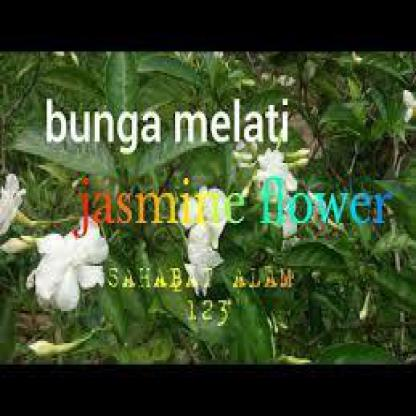Melati: (165, 188, 235, 308), (21, 224, 114, 306), (249, 145, 305, 231)
